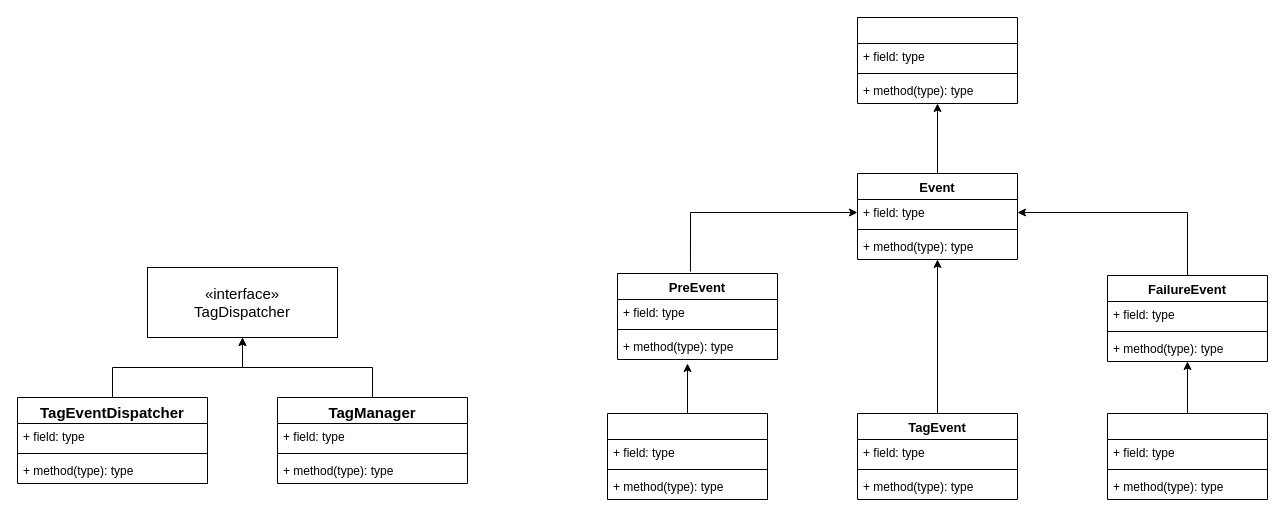
This 1285x520 diagram has some shape labels left out. The shapes that lost their labels are listed below. From the top down, each one's box as (x1, y1, x2, y2) in pixels, then its label:
(856, 16, 1018, 104): BaseEvent
(606, 412, 768, 500): TagPreEvent
(1106, 412, 1268, 500): TagFailureEvent
